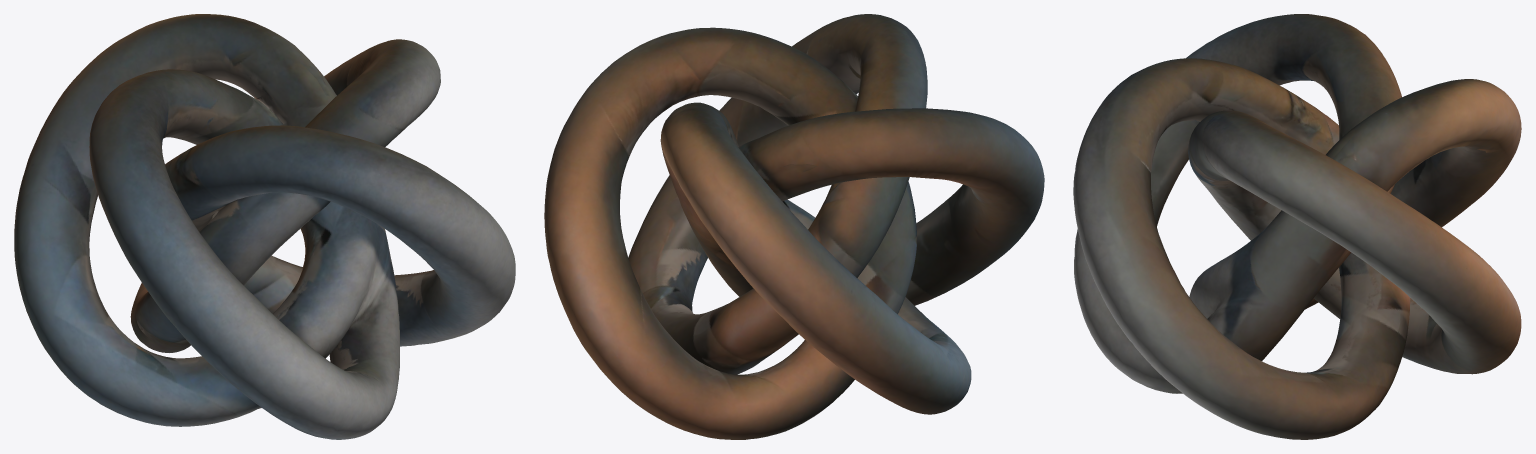
Rendered from ref-a-sport-girl.glb.
3 views of the same model, side by side, from view 1: azimuth 30°, elevation 25°; view 2: azimuth 150°, elevation 25°; view 3: azimuth 270°, elevation 25° (orthographic). The views are drawn at different scales.
Bounding box in the file's own units: 1.89 × 1.48 × 1.99.
Materials: 1 (1 with a texture image).
